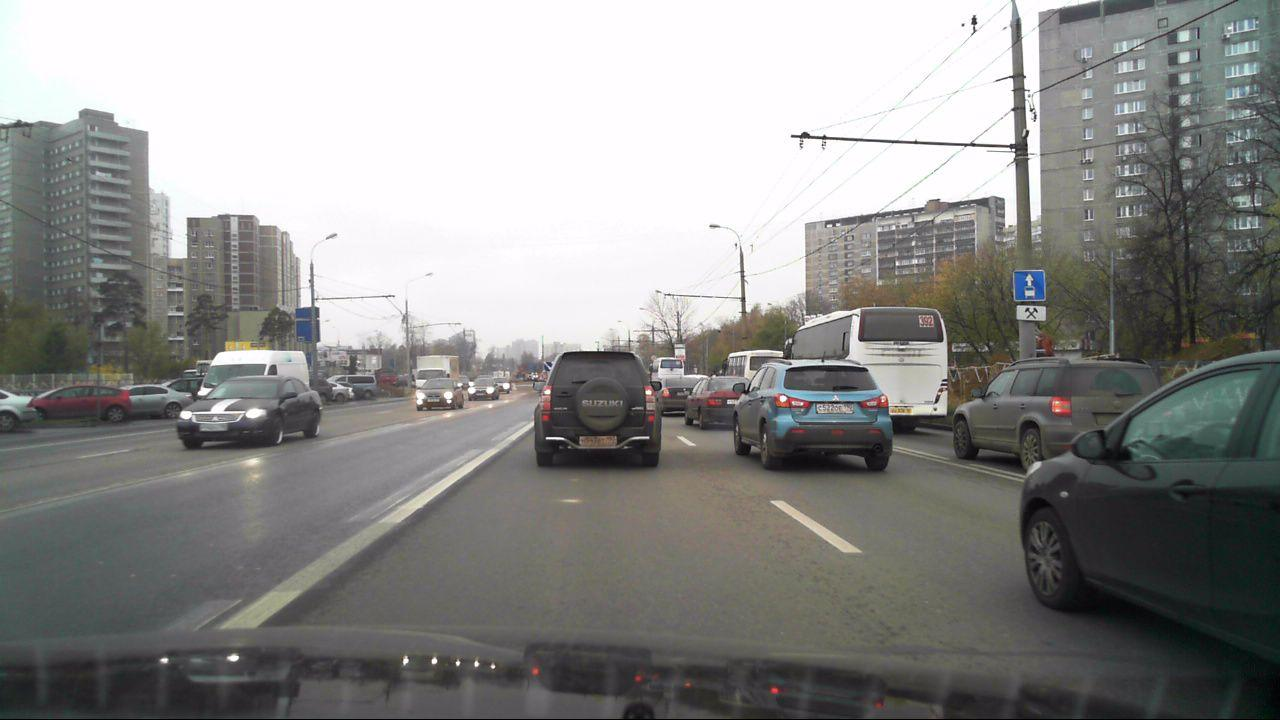5_14_1: (1013, 270, 1045, 300)
8_5_2: (1015, 305, 1047, 322)
